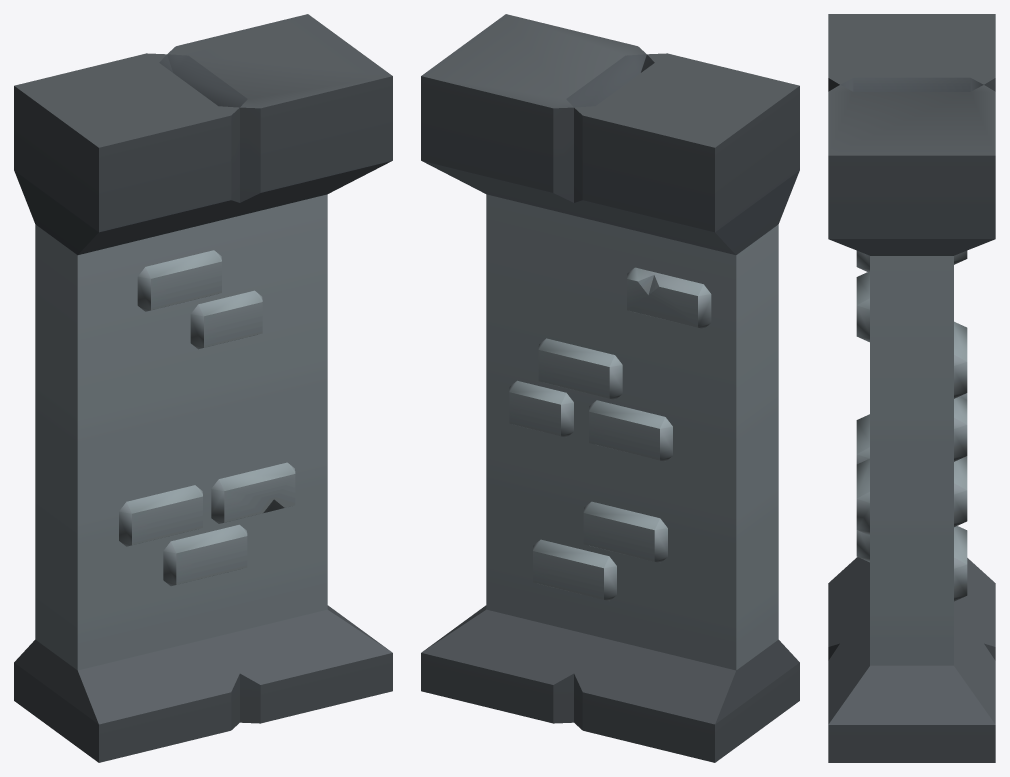
File: wall_half_endcap.glb
3 views of the same model, side by side, from view 1: azimuth 30°, elevation 25°; view 2: azimuth 150°, elevation 25°; view 3: azimuth 270°, elevation 25° (orthographic).
Parts seen in each view (by area): view 1: wall_half_endcap; view 2: wall_half_endcap; view 3: wall_half_endcap.
Part boxes in pixels (x1,y1,x2,y2): wall_half_endcap: [14, 14, 392, 762]; wall_half_endcap: [421, 14, 799, 762]; wall_half_endcap: [828, 14, 995, 762].
Size of the model in its own units: 2 by 4 by 1.
Materials: 1 (1 with a texture image).
